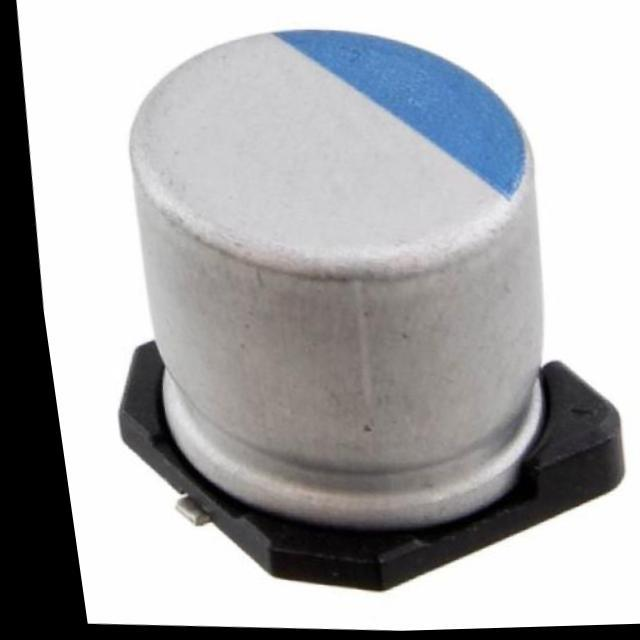Capacitor: (68, 5, 594, 556)
